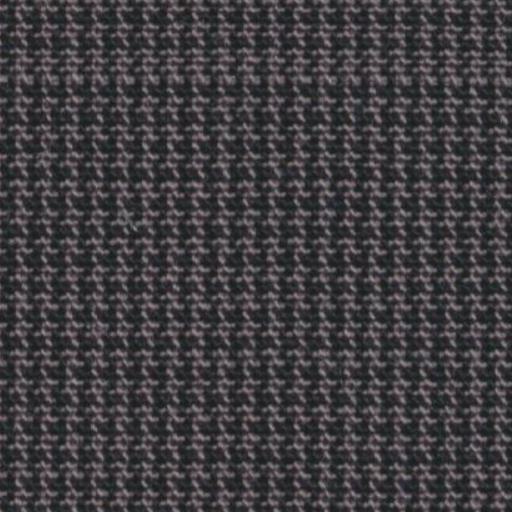TuoSha: (12, 22, 496, 122)
